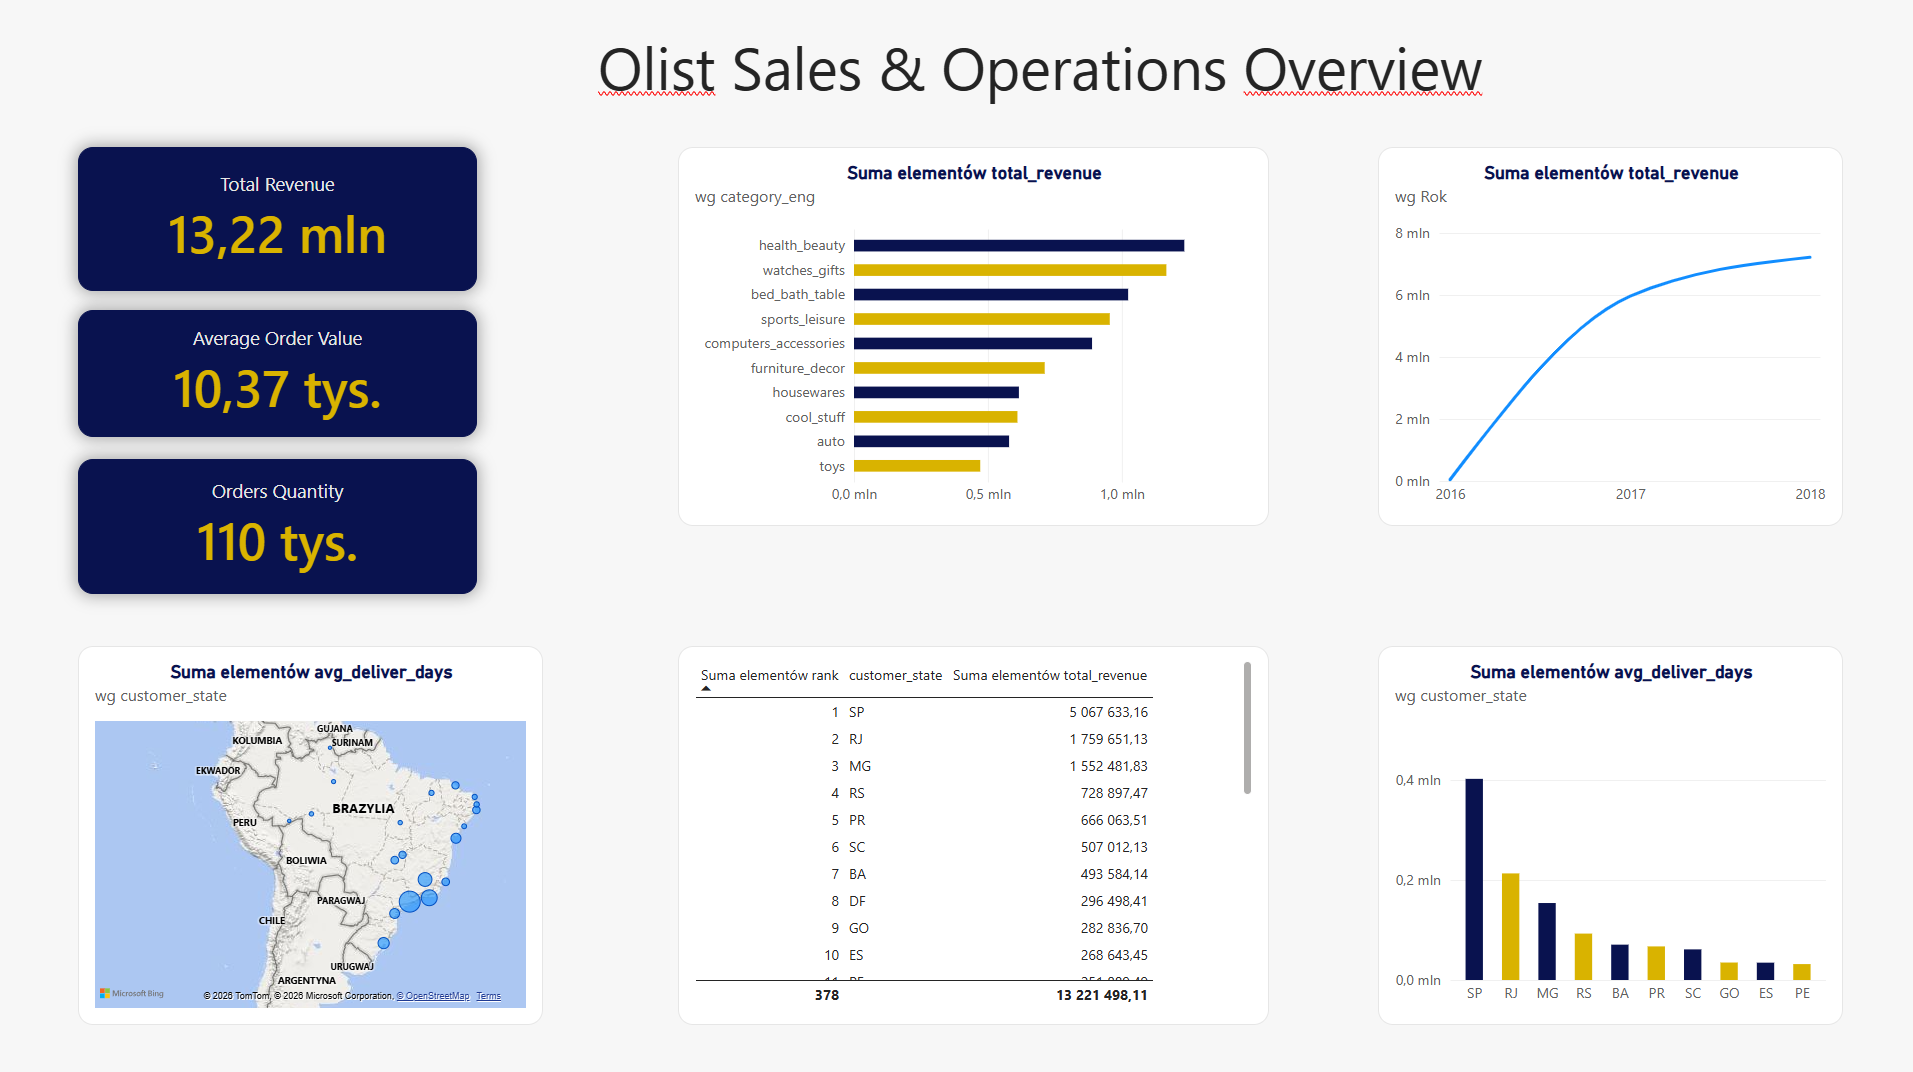

The page's visual inventory and layout, read from the dashboard file:
{"tool":"powerbi","page":{"name":"Strona 1","canvas":[1920,1080],"ordinal":0},"visuals":[{"type":"barChart","fields":{"Category":["revenue_by_category.category_eng"],"Y":["Sum(revenue_by_category.total_revenue)"]},"box":[679.6,150.2,591.9,378.9],"z":0},{"type":"lineChart","fields":{"Category":["revenue_by_month.order_month.Odmiana.Hierarchia dat.Rok","revenue_by_month.order_month.Odmiana.Hierarchia dat.Kwartał","revenue_by_month.order_month.Odmiana.Hierarchia dat.Miesiąc","revenue_by_month.order_month.Odmiana.Hierarchia dat.Dzień"],"Y":["Sum(revenue_by_month.total_revenue)"]},"box":[1380.4,150.2,465,379],"z":1000},{"type":"clusteredColumnChart","fields":{"Category":["delivery_performance.customer_state"],"Y":["Sum(delivery_performance.avg_deliver_days)"]},"box":[1380.4,648.9,465,379],"z":2000},{"type":"map","fields":{"Category":["delivery_performance.customer_state"],"Size":["Sum(delivery_performance.avg_deliver_days)"]},"box":[79.8,648.9,465,379],"z":3000},{"type":"tableEx","fields":{"Values":["Sum(revenue_by_state.rank)","revenue_by_state.customer_state","Sum(revenue_by_state.total_revenue)"]},"box":[679.6,648.9,591.9,378.9],"z":4000},{"type":"cardVisual","fields":{"Data":["Sum(revenue_by_category.total_revenue)"]},"box":[79.8,150.2,399.5,143.3],"z":5000},{"type":"cardVisual","fields":{"Data":["Sum(revenue_by_category.orders_quantity)"]},"box":[79.8,462.4,399.5,134.5],"z":6000},{"type":"cardVisual","fields":{"Data":["Sum(revenue_by_category.avg_order_value)"]},"box":[79.8,313.2,399.5,126.6],"z":7000},{"type":"textbox","box":[600,30,988.9,120],"z":8000}]}

Visuals, with their boxes in screenshot pixels (x1, y1, x2, y2), scaled from the page's 1920x1080 canvas onto the 1913x1072 screenshot:
barChart - revenue_by_category.category_eng x Sum(revenue_by_category.total_revenue): <box>677,149,1267,525</box>
lineChart - revenue_by_month.order_month.Odmiana.Hierarchia dat.Rok x revenue_by_month.order_month.Odmiana.Hierarchia dat.Kwartał: <box>1375,149,1839,525</box>
clusteredColumnChart - delivery_performance.customer_state x Sum(delivery_performance.avg_deliver_days): <box>1375,644,1839,1020</box>
map - delivery_performance.customer_state x Sum(delivery_performance.avg_deliver_days): <box>80,644,543,1020</box>
tableEx - Sum(revenue_by_state.rank) x revenue_by_state.customer_state: <box>677,644,1267,1020</box>
cardVisual - Sum(revenue_by_category.total_revenue): <box>80,149,478,291</box>
cardVisual - Sum(revenue_by_category.orders_quantity): <box>80,459,478,592</box>
cardVisual - Sum(revenue_by_category.avg_order_value): <box>80,311,478,437</box>
textbox: <box>598,30,1583,149</box>
